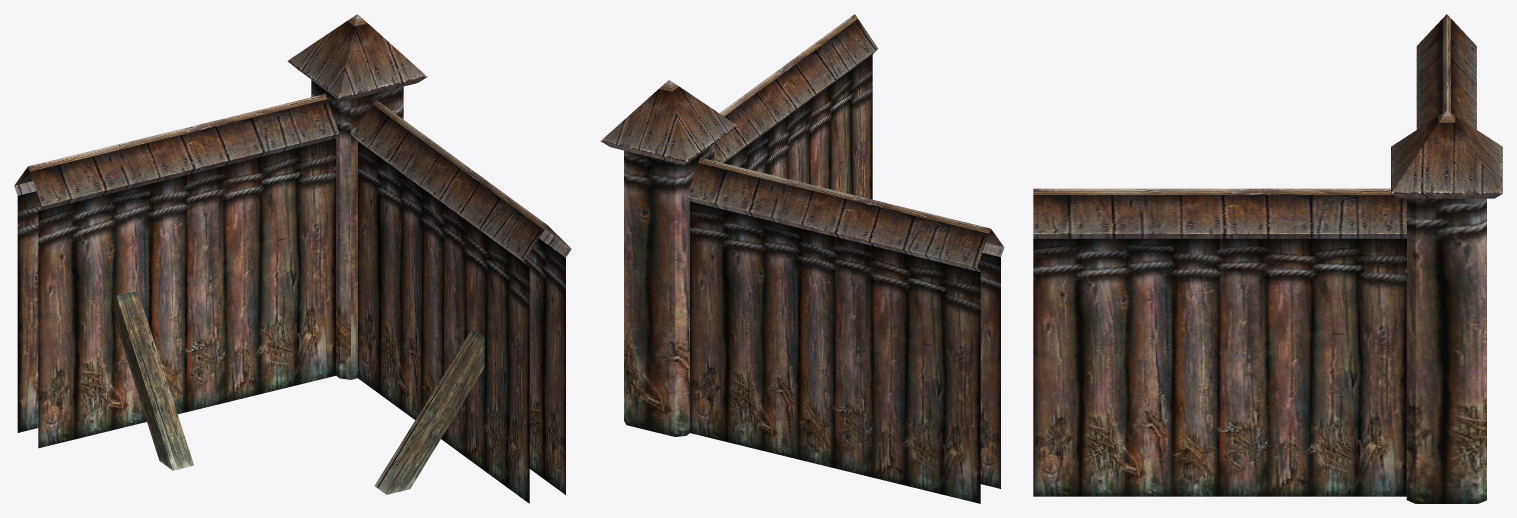
The model's file is mhouse20k.glb.
3 renders of one model, left to right at view 1: azimuth 30°, elevation 25°; view 2: azimuth 150°, elevation 25°; view 3: azimuth 270°, elevation 25°, orthographic. The views are drawn at different scales.
Parts seen in each view (by area): view 1: mhouse20k; view 2: mhouse20k; view 3: mhouse20k.
Part boxes in pixels (x1,y1,x2,y2): mhouse20k: (14, 14, 571, 503); mhouse20k: (600, 14, 1004, 503); mhouse20k: (1033, 14, 1502, 503).
Bounding box in the file's own units: 5.28 × 4.67 × 5.28.
Materials: 4 (4 with a texture image).
